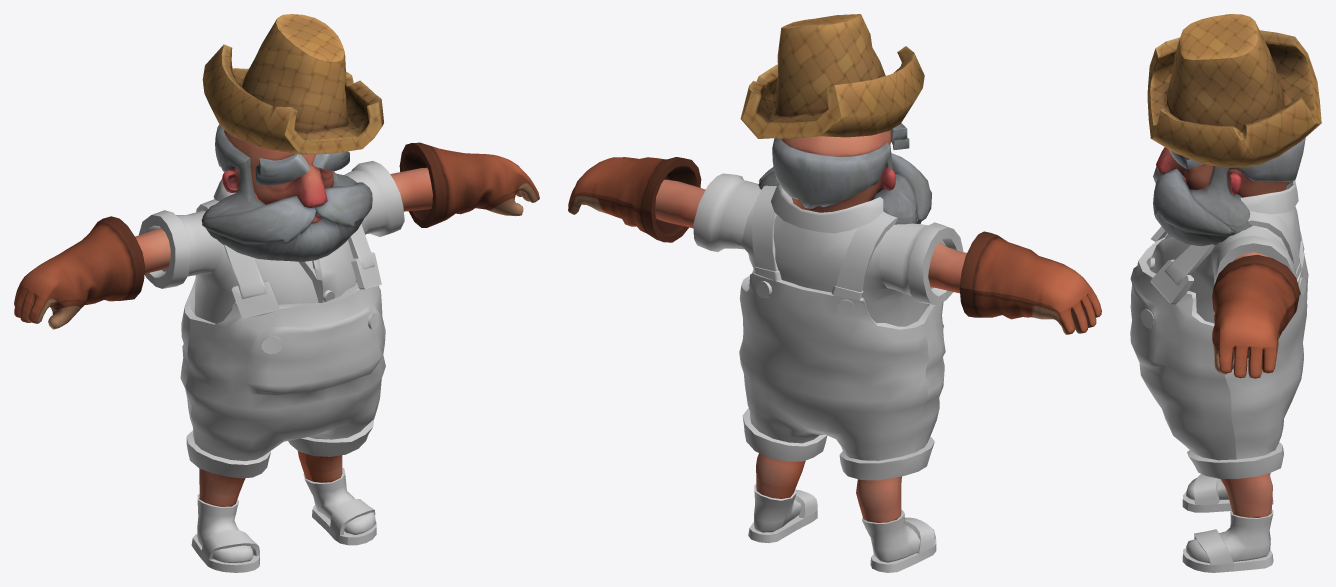
File: char_farmer.fbx
The picture shows the model from 3 angles, left to right: view 1: azimuth 30°, elevation 25°; view 2: azimuth 150°, elevation 25°; view 3: azimuth 270°, elevation 25°; orthographic projection.
Parts seen in each view (by area): view 1: char_farmer; view 2: char_farmer; view 3: char_farmer.
Boxes of the visible parts, left/top/right/bottom form: char_farmer: left=14, top=14, right=539, bottom=572; char_farmer: left=568, top=14, right=1101, bottom=572; char_farmer: left=1130, top=14, right=1321, bottom=572.
Bounding box in the file's own units: 6.58 × 6.33 × 2.12.
